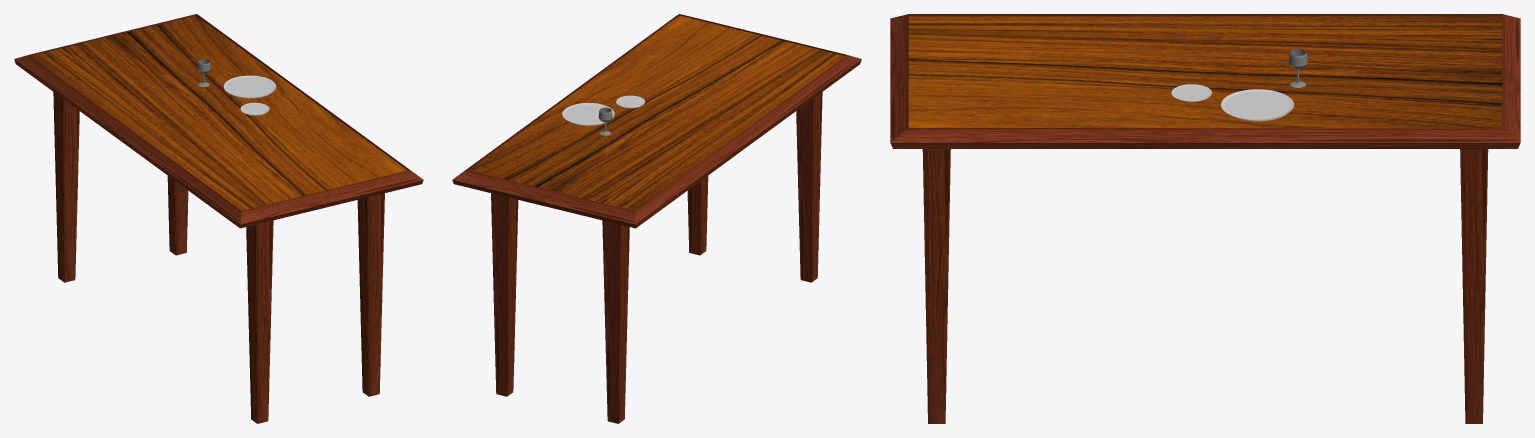
The model's file is table.fbx.
3 views of the same model, side by side, from view 1: azimuth 30°, elevation 25°; view 2: azimuth 150°, elevation 25°; view 3: azimuth 270°, elevation 25° (orthographic). The views are drawn at different scales.
Visible parts, largest first — view 1: Cube_002, Cylinder_001; view 2: Cube_002, Cylinder_001; view 3: Cube_002, Cylinder_001, Cylinder.
Part boxes in pixels (x1=…): Cube_002: x1=14, y1=14, x2=423, y2=423; Cylinder_001: x1=223, y1=75, x2=276, y2=98; Cube_002: x1=452, y1=14, x2=861, y2=423; Cylinder_001: x1=562, y1=103, x2=614, y2=125; Cube_002: x1=890, y1=14, x2=1520, y2=423; Cylinder_001: x1=1221, y1=89, x2=1294, y2=121; Cylinder: x1=1171, y1=84, x2=1211, y2=101.
Bounding box in the file's own units: 3.29 × 4.22 × 7.03.
